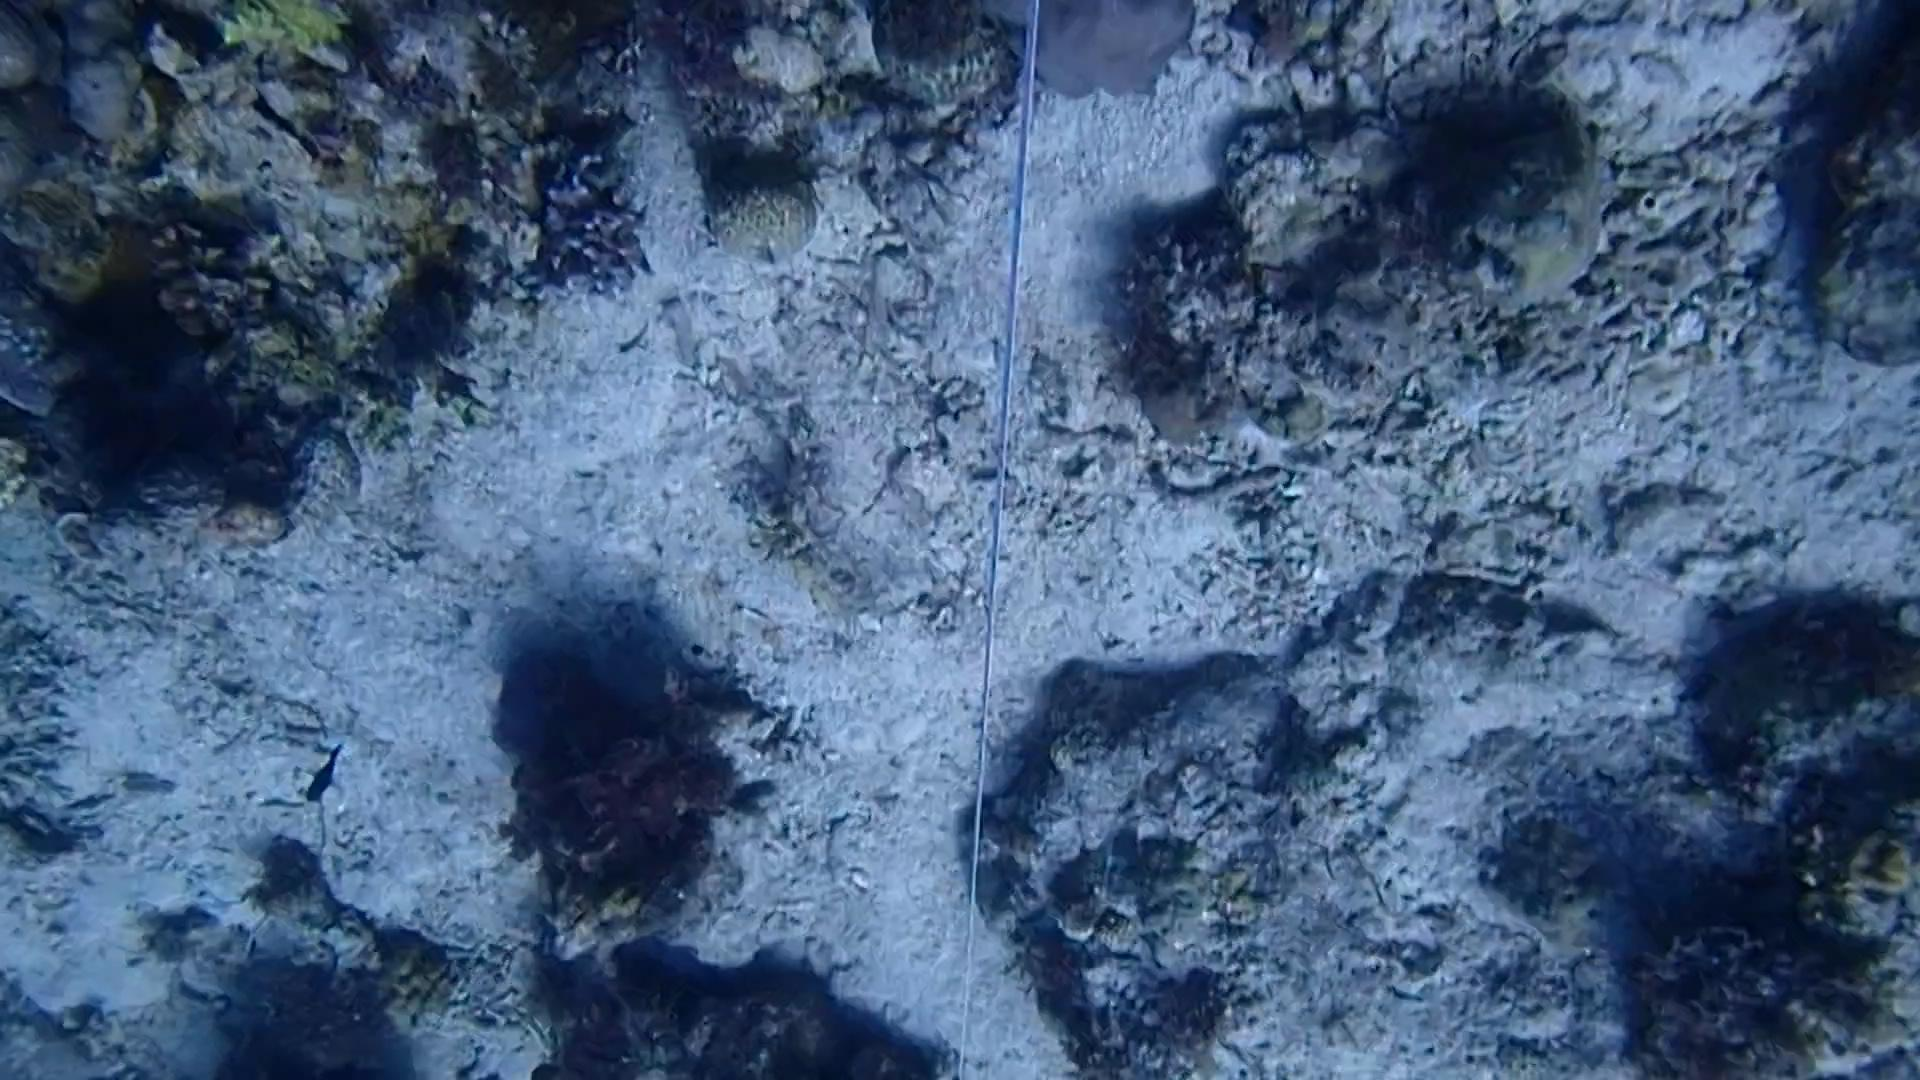Dark Fish: (293, 736, 361, 818)
